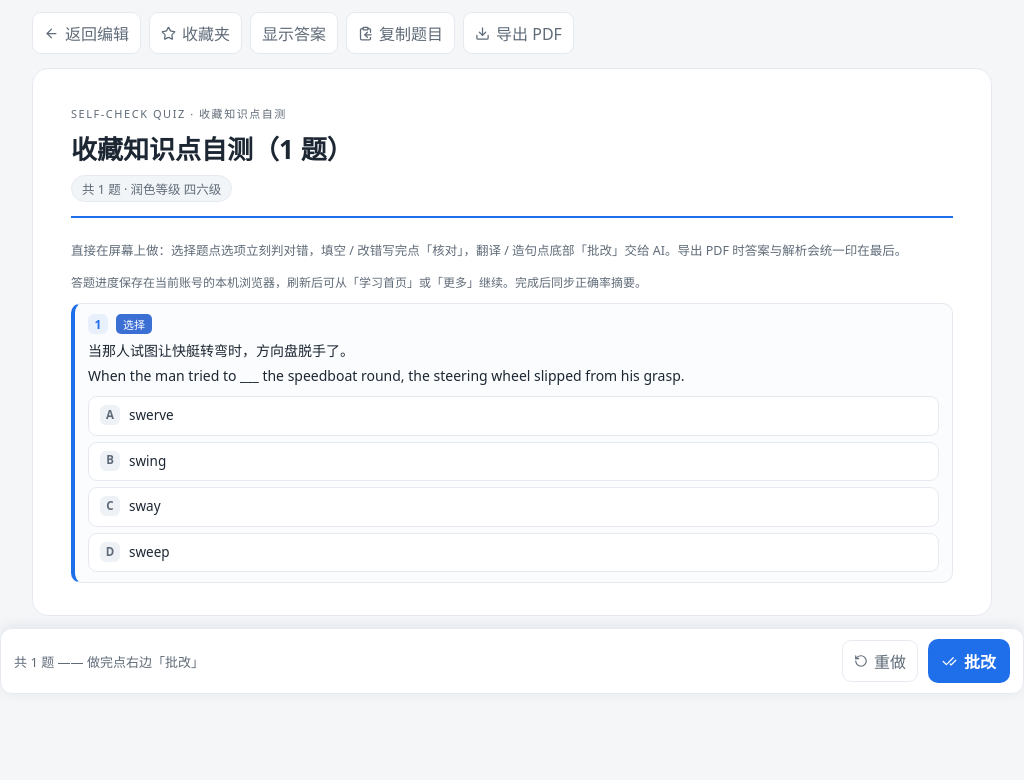
Test case: 选择题：点选项立刻判对错 › 点错的那个 → 错，同时把正确答案那一项标出来
Click the button "A swerve" at x=151, y=415, box [88,396,939,436]
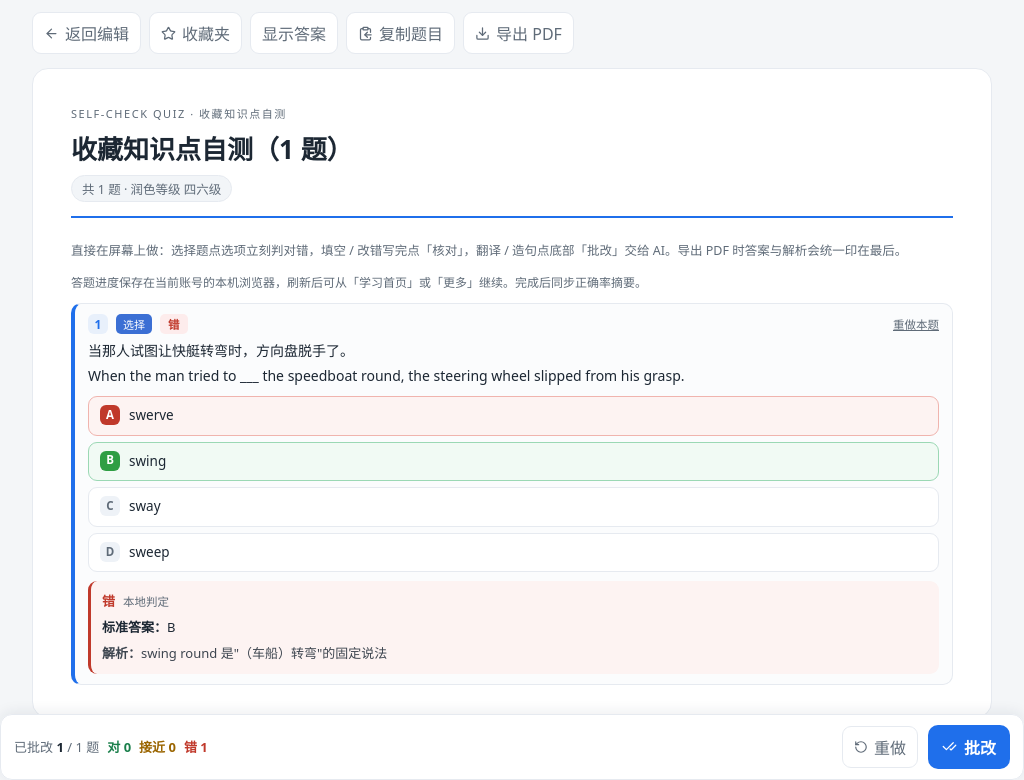
Expected: the button "B swing" is shown, [88,442,939,481]
Expected: the element with class "wrong" that starts with "本地判定" is shown, [88,581,939,674]
Expected: the element showing "已批改 1 / 1 题对 0接近 0错 1" is shown, [14,738,208,756]
